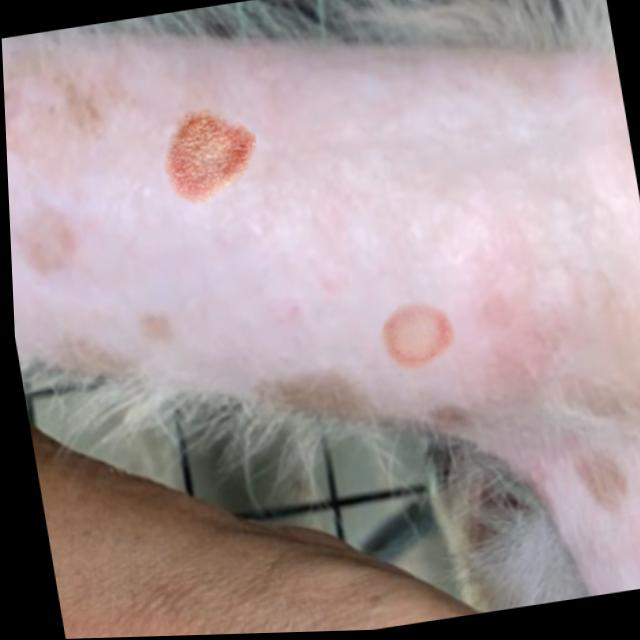ringworm: (123, 65, 300, 231)
